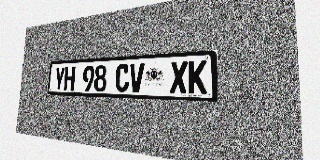8: (94, 65, 107, 92)
9: (82, 65, 95, 91)
C: (115, 64, 130, 92)
H: (63, 66, 75, 91)
K: (188, 60, 207, 94)
V: (129, 63, 144, 92)
X: (170, 61, 188, 93)
Y: (54, 67, 65, 91)
